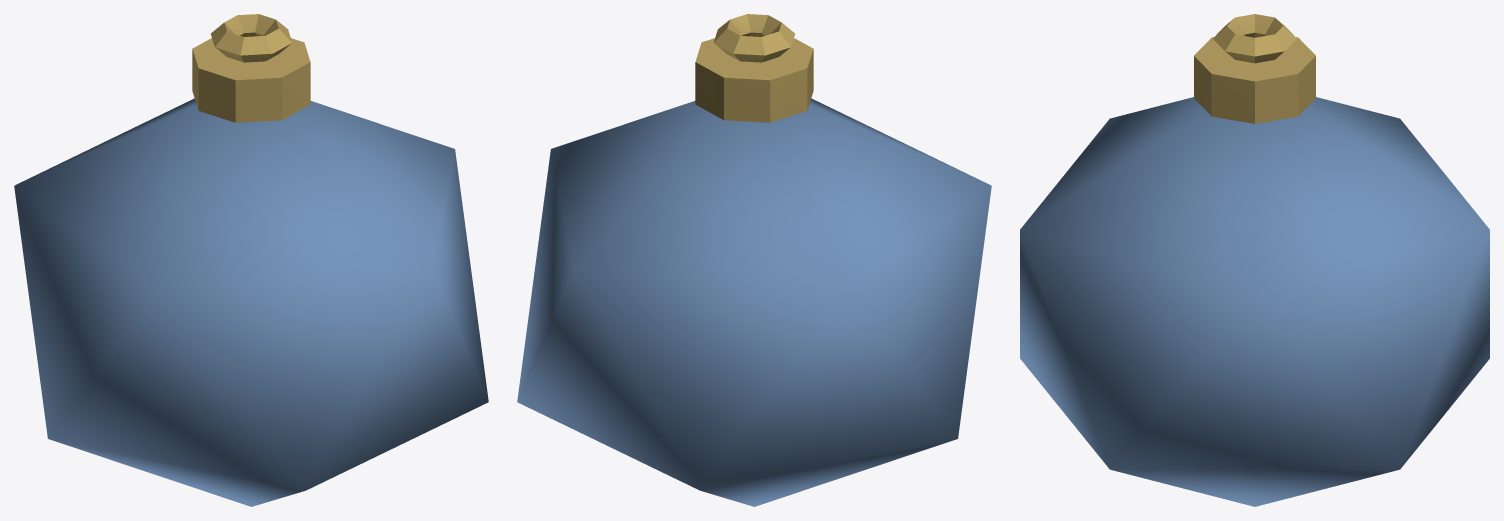
Rendered from resident_bauble_blue_low.glb.
3 renders of one model, left to right at view 1: azimuth 30°, elevation 25°; view 2: azimuth 150°, elevation 25°; view 3: azimuth 270°, elevation 25°, orthographic.
Size of the model in its own units: 1 by 1.13 by 1.
